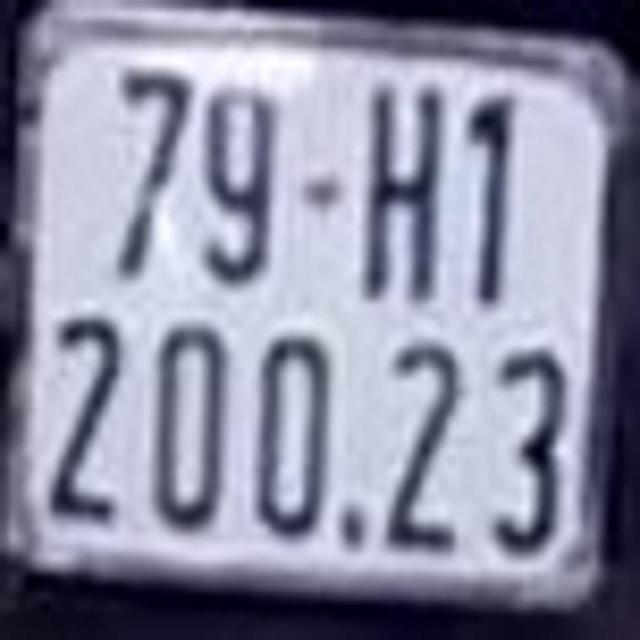0: (256, 324, 328, 540), (152, 311, 222, 526)
1: (454, 81, 522, 306)
2: (386, 324, 461, 562), (52, 306, 122, 525)
3: (490, 322, 569, 556)
7: (114, 62, 192, 284)
9: (194, 60, 273, 288)
H: (356, 82, 447, 305)
